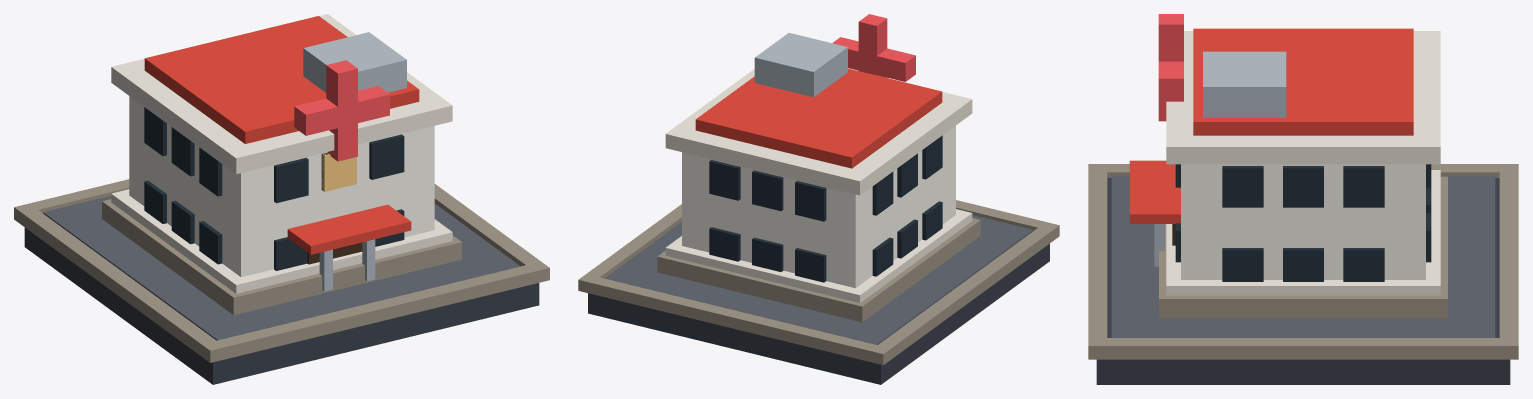
The model's file is city.hospital_pet.glb.
The picture shows the model from 3 angles, left to right: view 1: azimuth 30°, elevation 25°; view 2: azimuth 150°, elevation 25°; view 3: azimuth 270°, elevation 25°; orthographic projection. The views are drawn at different scales.
Parts seen in each view (by area): view 1: city.hospital_pet; view 2: city.hospital_pet; view 3: city.hospital_pet.
Part boxes in pixels (x1,y1,x2,y2): city.hospital_pet: [14, 14, 549, 384]; city.hospital_pet: [578, 14, 1059, 384]; city.hospital_pet: [1088, 14, 1518, 384].
Bounding box in the file's own units: 2.02 × 1.44 × 2.02.
